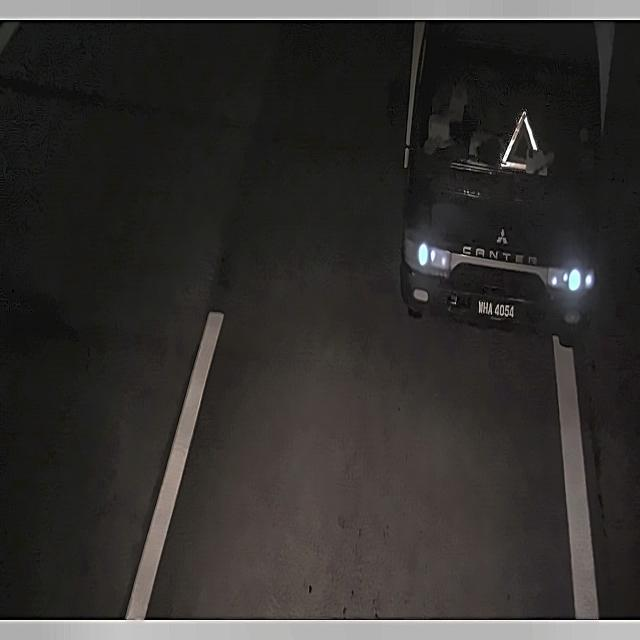car: (471, 291, 525, 326)
